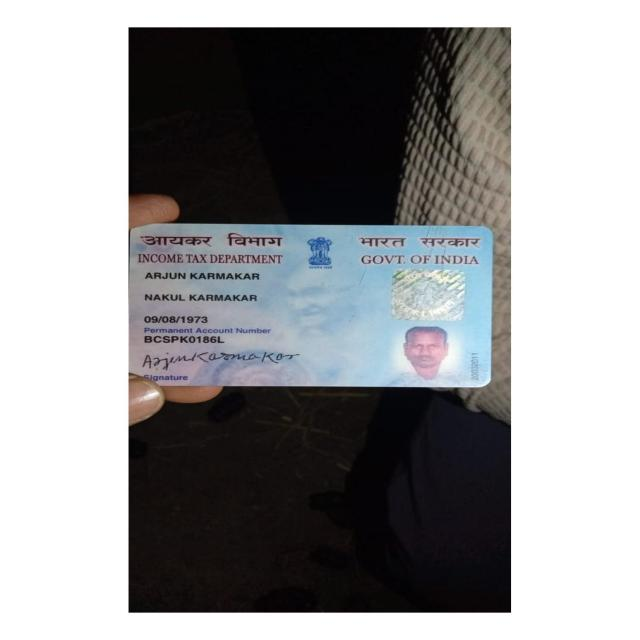pan_card: (130, 223, 490, 387)
